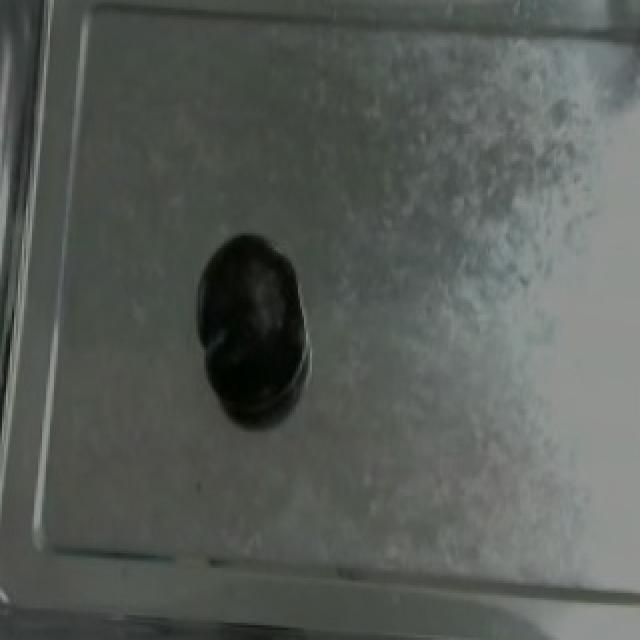Fruit: (192, 223, 308, 419)
